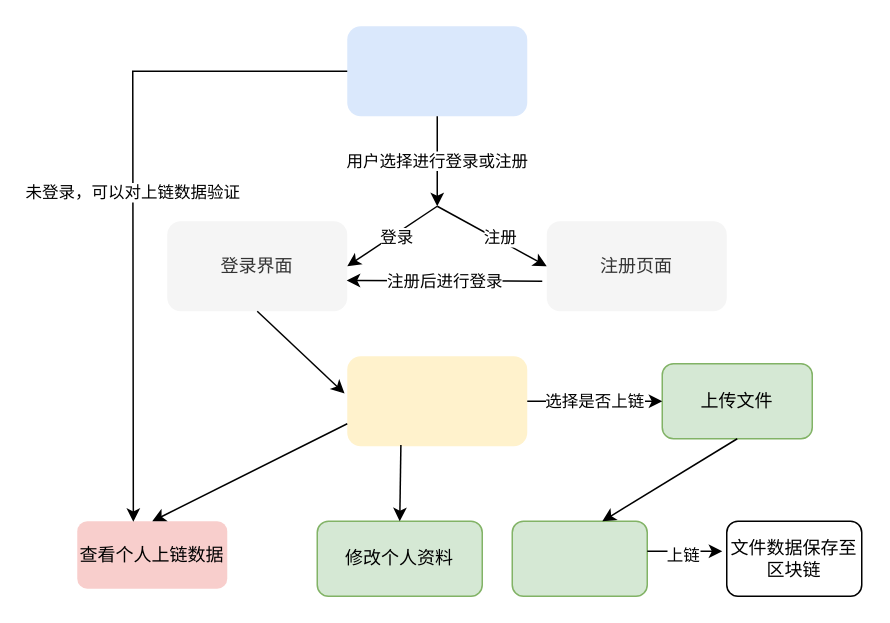
This 890x623 diagram has some shape labels left out. Here are the shapes that lost their labels. From the top down, the centre of each, then its label:
At (436,71): "进入前端登录页面".
At (436,401): "进入主页（默认文件上传页面）".
At (579,558): "文件保存至数据库".
